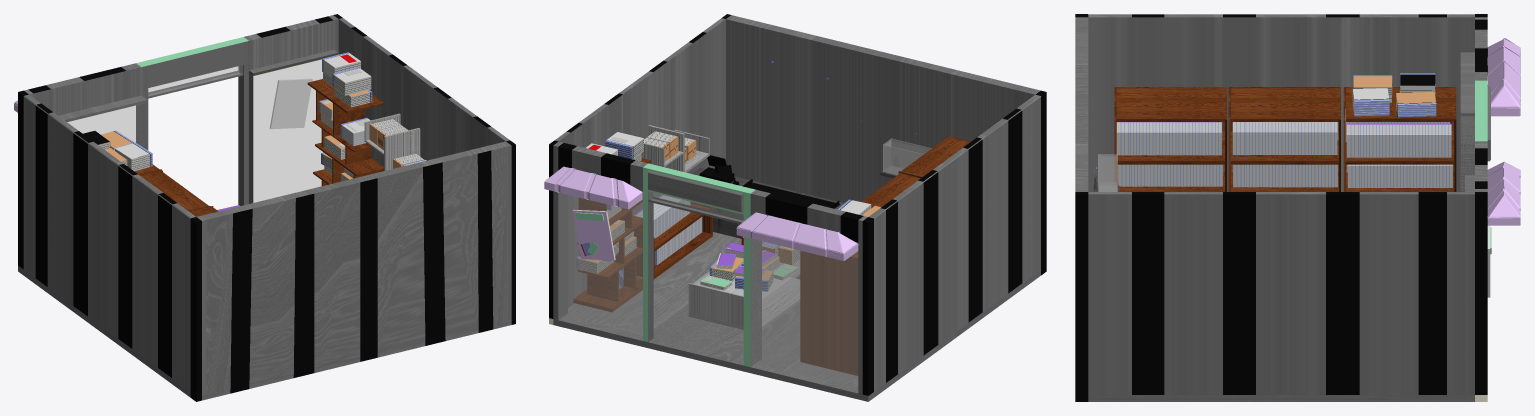
Rendered from moldel3.glb.
The picture shows the model from 3 angles, left to right: view 1: azimuth 30°, elevation 25°; view 2: azimuth 150°, elevation 25°; view 3: azimuth 270°, elevation 25°; orthographic projection. The views are drawn at different scales.
Visible parts, largest first — view 1: Cube; view 2: Cube; view 3: Cube.
Part boxes in pixels (bbox=[...]): Cube: bbox=[14, 14, 515, 401]; Cube: bbox=[544, 14, 1046, 401]; Cube: bbox=[1075, 14, 1520, 401].
Bounding box in the file's own units: 23.01 × 12.36 × 24.01.
Materials: 19 (4 with a texture image).
